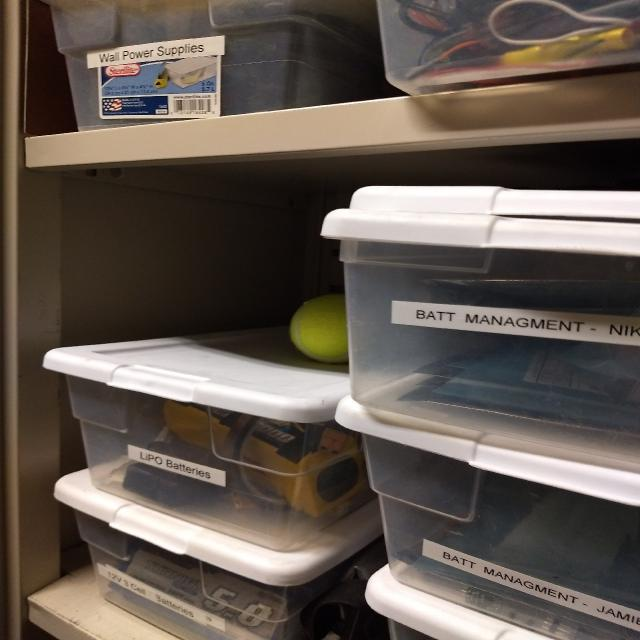Tennis-Ball: (292, 294, 352, 362)
